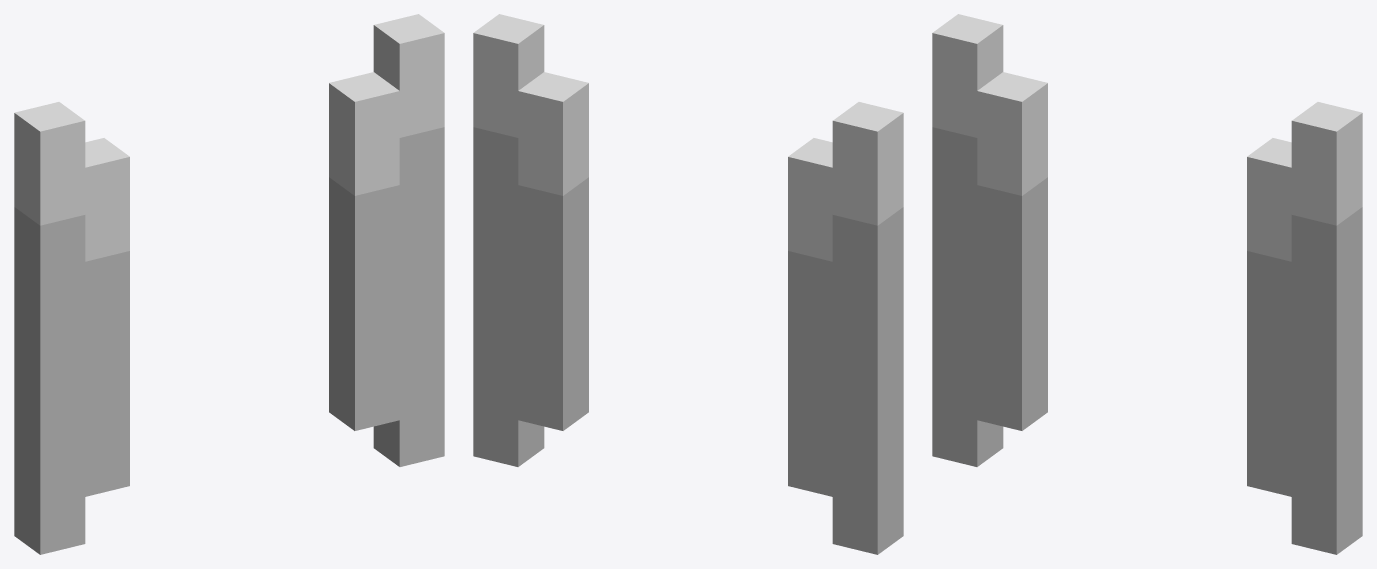
The model's file is ConstructionMaterials-96.obj.
3 views of the same model, side by side, from view 1: azimuth 30°, elevation 25°; view 2: azimuth 150°, elevation 25°; view 3: azimuth 330°, elevation 25° (orthographic).
Size of the model in its own units: 0.9 by 0.9 by 0.1.
1 material, 1 textured.
